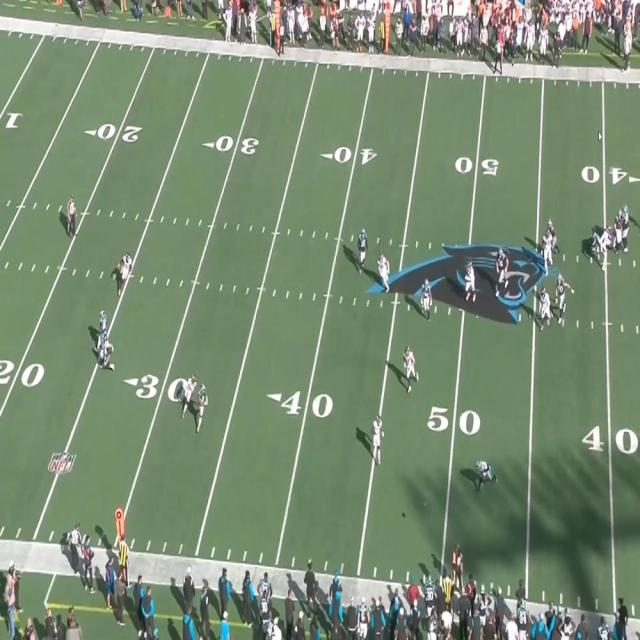db: (371, 413, 383, 461), (181, 375, 195, 416), (118, 255, 130, 296), (101, 333, 113, 372)
lb: (377, 253, 388, 293), (404, 345, 415, 381)
skill: (196, 385, 208, 429), (476, 461, 494, 489), (422, 281, 434, 321), (358, 229, 367, 273), (98, 310, 107, 350)
